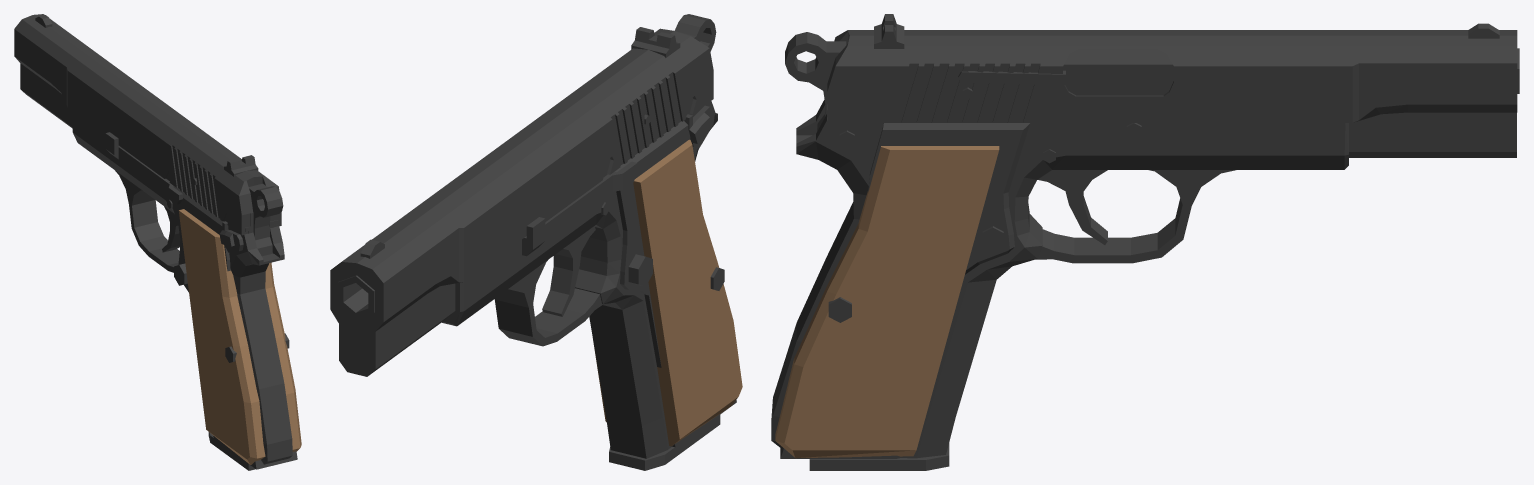
File: pistol_1.glb
3 renders of one model, left to right at view 1: azimuth 30°, elevation 25°; view 2: azimuth 150°, elevation 25°; view 3: azimuth 270°, elevation 25°, orthographic. The views are drawn at different scales.
Visible parts, largest first — view 1: p1_paint, p17_accent, p4_paint, p5_paint, p16_accent, p22_paint, p13_paint, p2_paint, p6_paint, p21_paint, p20_paint, p9_paint (+1 smaller); view 2: p1_paint, p17_accent, p4_paint, p2_paint, p5_paint, p13_paint, p6_paint, p9_paint, p19_paint, p0_paint, p20_paint, p22_paint (+2 smaller); view 3: p1_paint, p16_accent, p4_paint, p2_paint, p13_paint, p5_paint, p7_paint, p22_paint, p9_paint, p19_paint, p10_paint, p20_paint.
Boxes of the visible parts, box(x1,y1,x2,y2) form: p1_paint: box(14, 14, 281, 235); p17_accent: box(178, 209, 265, 464); p4_paint: box(72, 112, 292, 464); p5_paint: box(115, 170, 179, 272); p16_accent: box(265, 262, 301, 451); p22_paint: box(248, 183, 283, 256); p13_paint: box(175, 187, 297, 469); p2_paint: box(20, 63, 72, 128); p6_paint: box(105, 132, 182, 204); p21_paint: box(219, 221, 243, 252); p20_paint: box(224, 155, 258, 176); p9_paint: box(162, 206, 180, 252); p1_paint: box(330, 28, 713, 331); p17_accent: box(633, 139, 742, 446); p4_paint: box(442, 101, 717, 458); p2_paint: box(339, 283, 455, 376); p5_paint: box(494, 260, 602, 346); p13_paint: box(615, 121, 736, 447); p6_paint: box(522, 161, 637, 256); p9_paint: box(542, 226, 595, 316); p19_paint: box(609, 415, 720, 470); p0_paint: box(337, 275, 374, 319); p20_paint: box(631, 27, 680, 57); p22_paint: box(674, 14, 716, 51); p1_paint: box(827, 30, 1517, 122); p16_accent: box(775, 146, 999, 458); p4_paint: box(771, 99, 1348, 458); p2_paint: box(1349, 112, 1516, 157); p13_paint: box(780, 123, 1030, 458); p5_paint: box(1035, 170, 1235, 263); p7_paint: box(1063, 48, 1173, 95); p22_paint: box(785, 32, 846, 131); p9_paint: box(1037, 170, 1107, 244); p19_paint: box(809, 443, 949, 470); p10_paint: box(958, 70, 1065, 84); p20_paint: box(874, 14, 904, 48).
Bounding box in the file's own units: 0.0258 × 0.1261 × 0.197.
